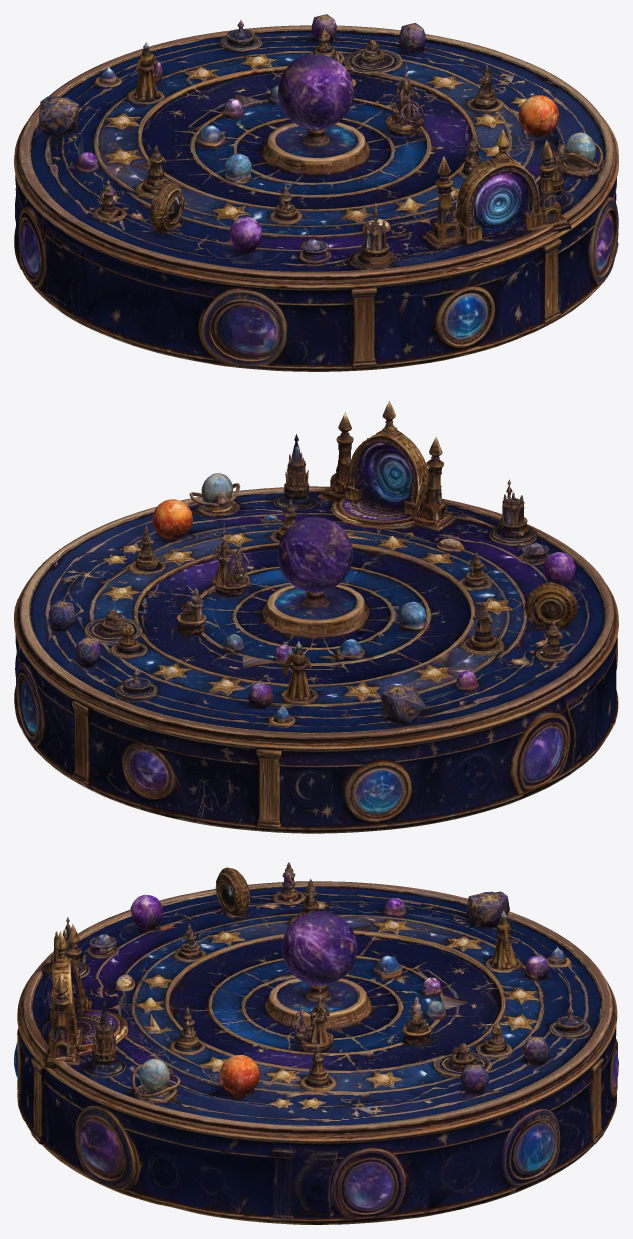
Rendered from Celestial_Orrery_of_D.glb.
The picture shows the model from 3 angles, top to bottom: view 1: azimuth 30°, elevation 25°; view 2: azimuth 150°, elevation 25°; view 3: azimuth 270°, elevation 25°; orthographic projection.
Parts seen in each view (by area): view 1: Celestial_Orrery_of_D; view 2: Celestial_Orrery_of_D; view 3: Celestial_Orrery_of_D.
Boxes of the visible parts, bbox=[...] form: Celestial_Orrery_of_D: bbox=[14, 14, 618, 371]; Celestial_Orrery_of_D: bbox=[14, 401, 618, 833]; Celestial_Orrery_of_D: bbox=[14, 862, 618, 1224].
Size of the model in its own units: 1.9 by 0.6783 by 1.89.
1 material, 1 textured.
